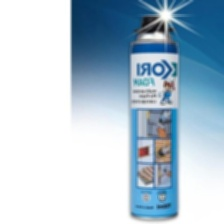aerosol_cans: (123, 12, 183, 222)
